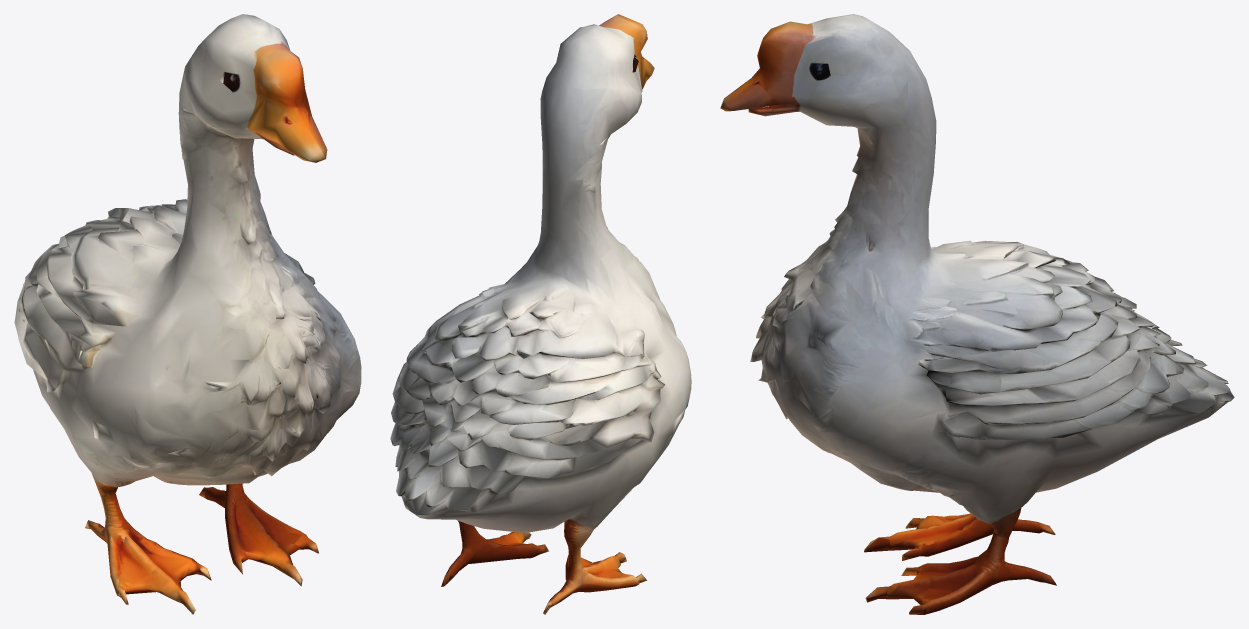
The model's file is goose.glb.
3 renders of one model, left to right at view 1: azimuth 30°, elevation 25°; view 2: azimuth 150°, elevation 25°; view 3: azimuth 270°, elevation 25°, orthographic. The views are drawn at different scales.
Parts seen in each view (by area): view 1: tripo_node_daa217ad-d03e-44ce-8bec-759b9bf38428; view 2: tripo_node_daa217ad-d03e-44ce-8bec-759b9bf38428; view 3: tripo_node_daa217ad-d03e-44ce-8bec-759b9bf38428.
Part boxes in pixels (left/top/right/bottom): tripo_node_daa217ad-d03e-44ce-8bec-759b9bf38428: left=14, top=14, right=361, bottom=614; tripo_node_daa217ad-d03e-44ce-8bec-759b9bf38428: left=390, top=14, right=691, bottom=614; tripo_node_daa217ad-d03e-44ce-8bec-759b9bf38428: left=720, top=14, right=1234, bottom=614.
Size of the model in its own units: 0.4589 by 0.9806 by 0.82.
Materials: 1 (1 with a texture image).
